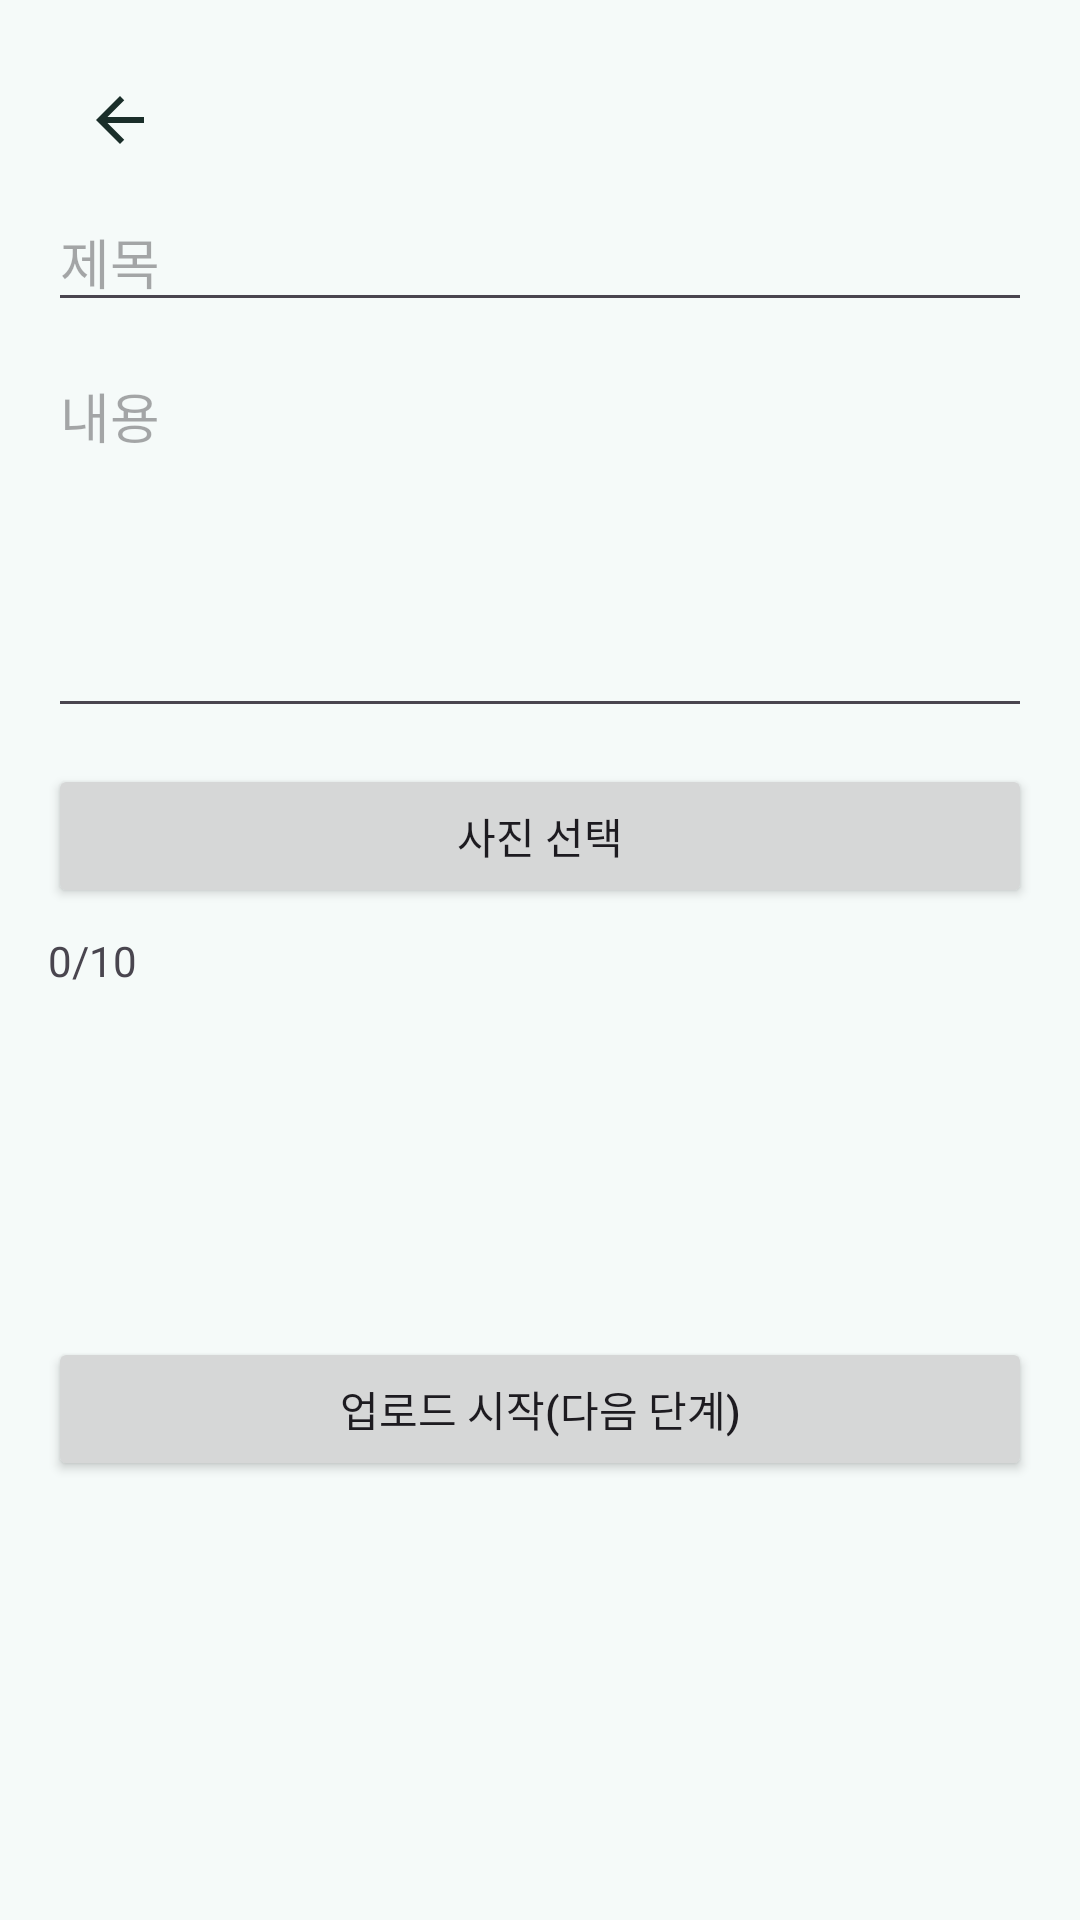

Where to tap for icons on this 1080px x 1920px app screen, as [x,y]:
뒤로가기: [120,120]
